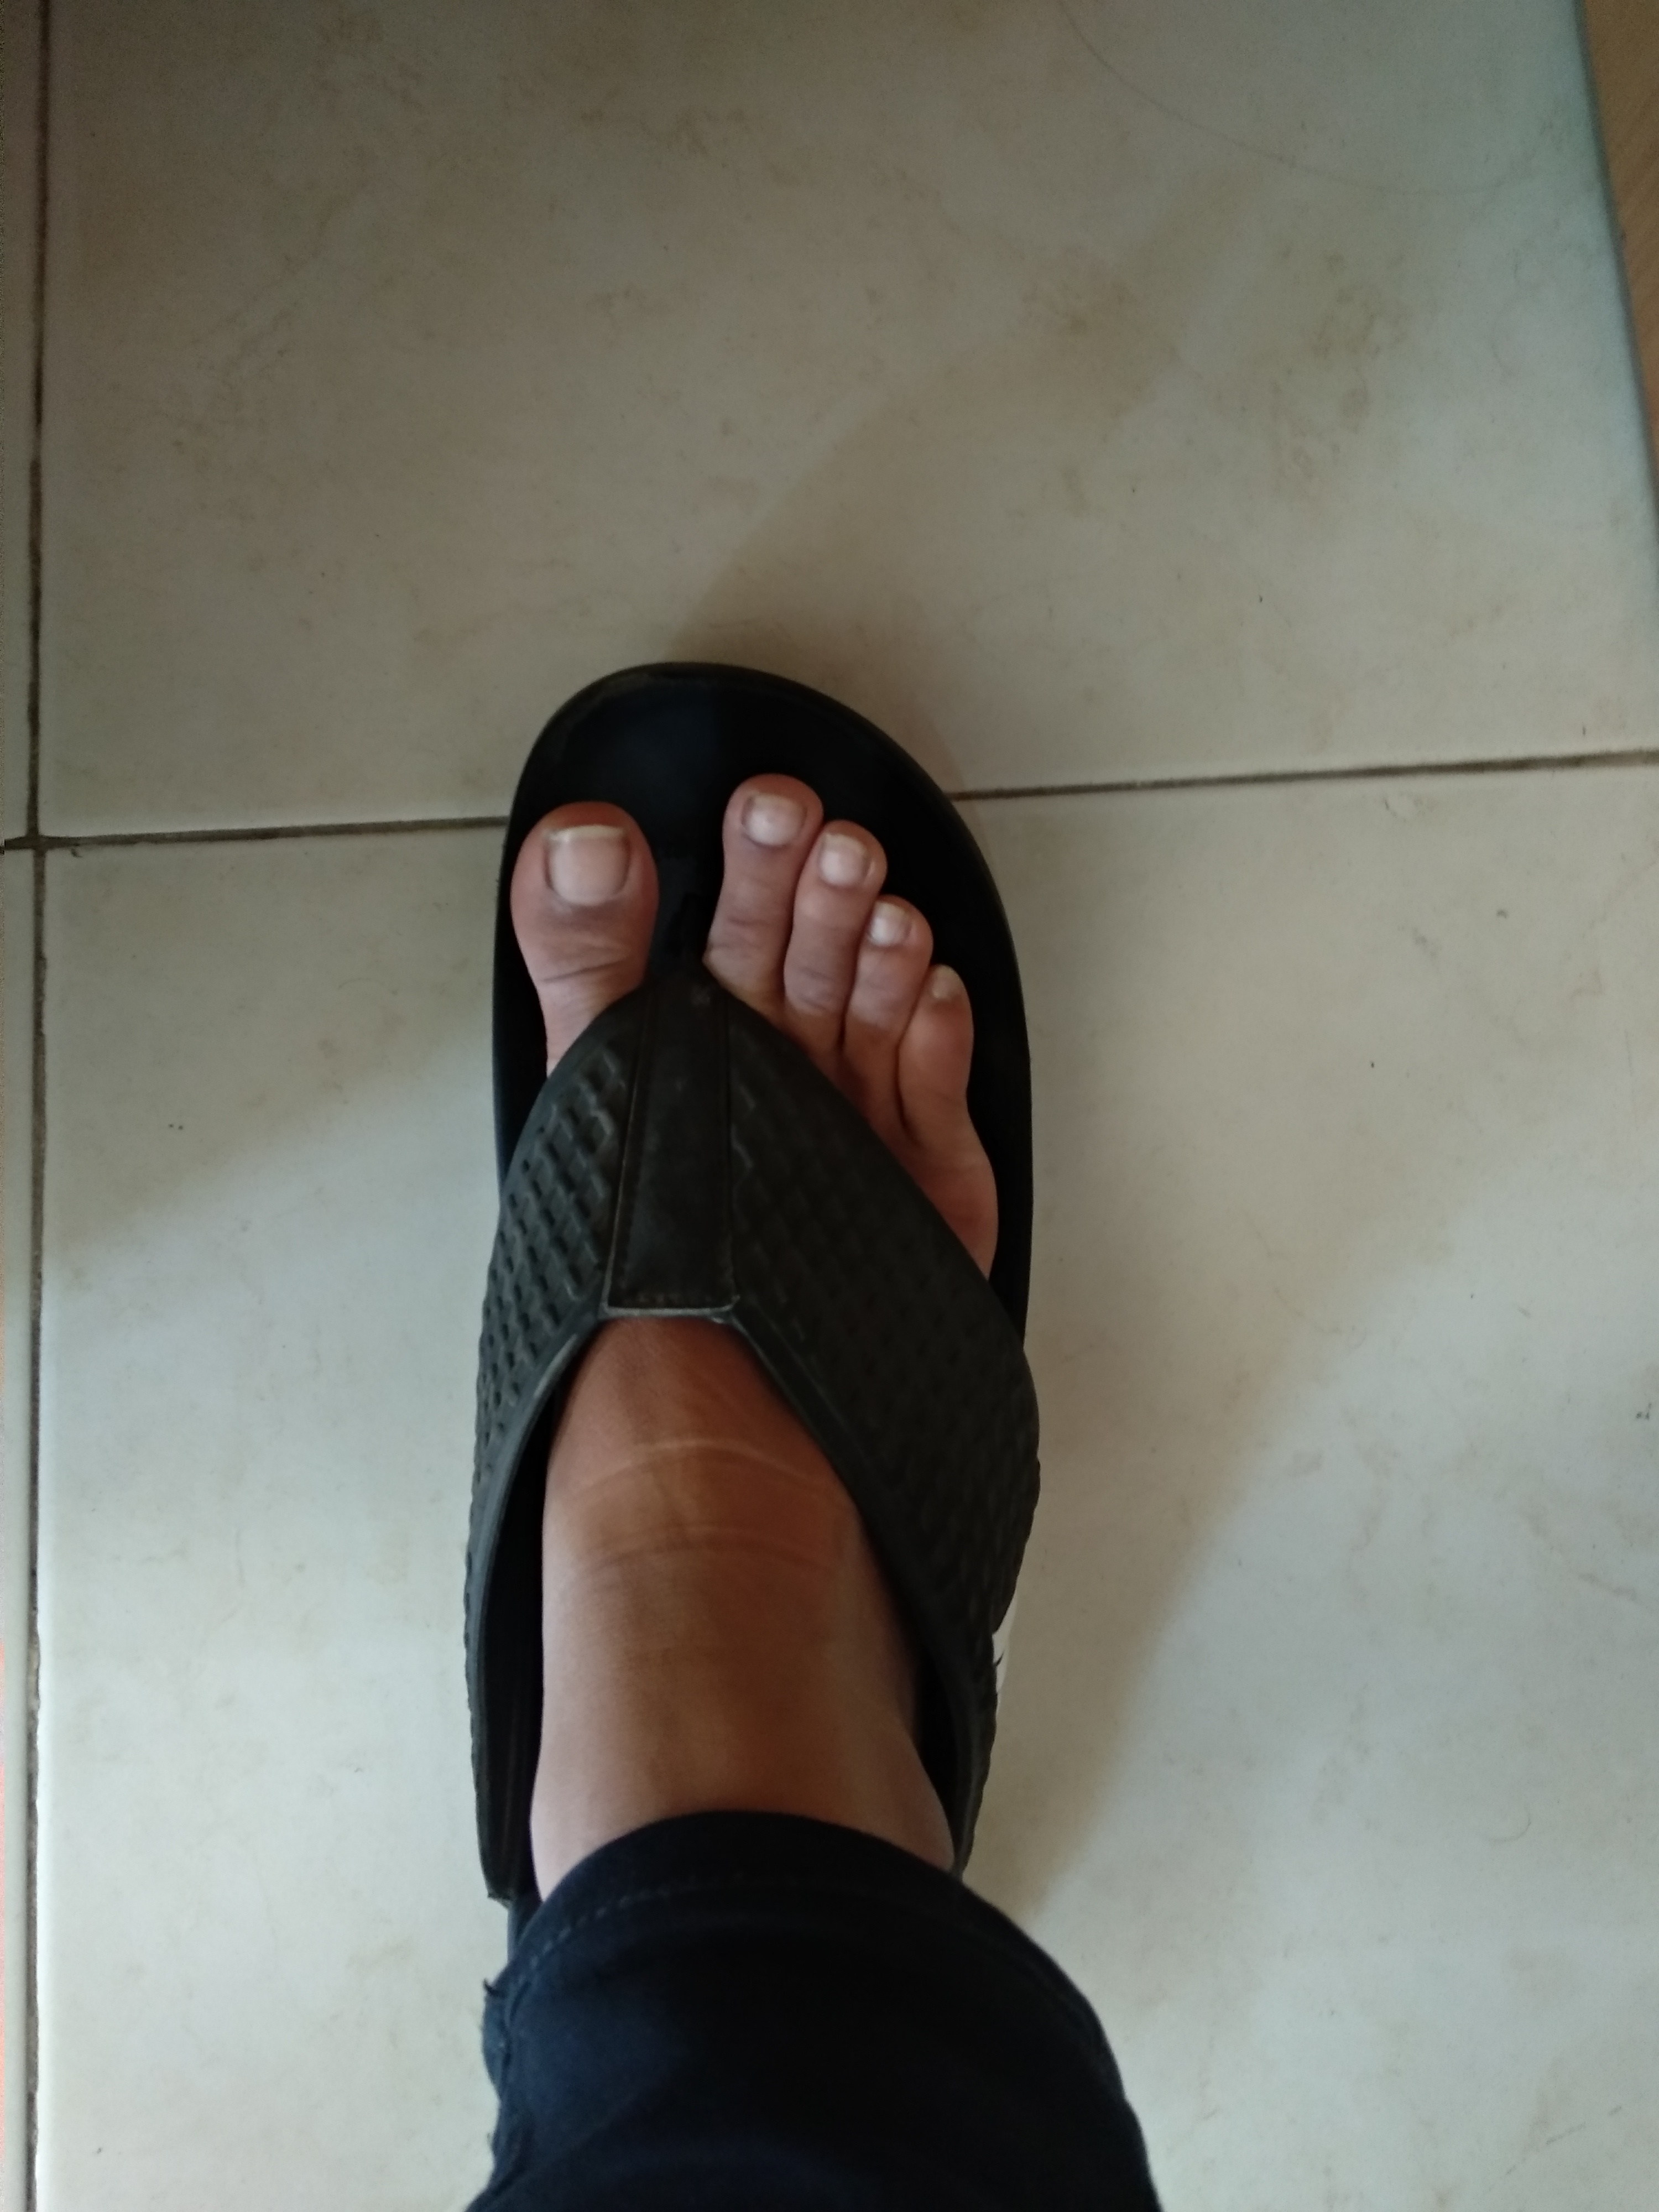feet: (429, 751, 1019, 1972)
